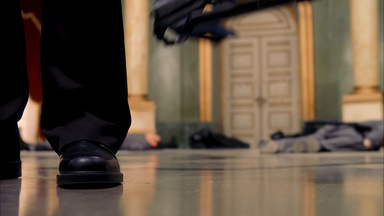firearm: (145, 2, 304, 49)
